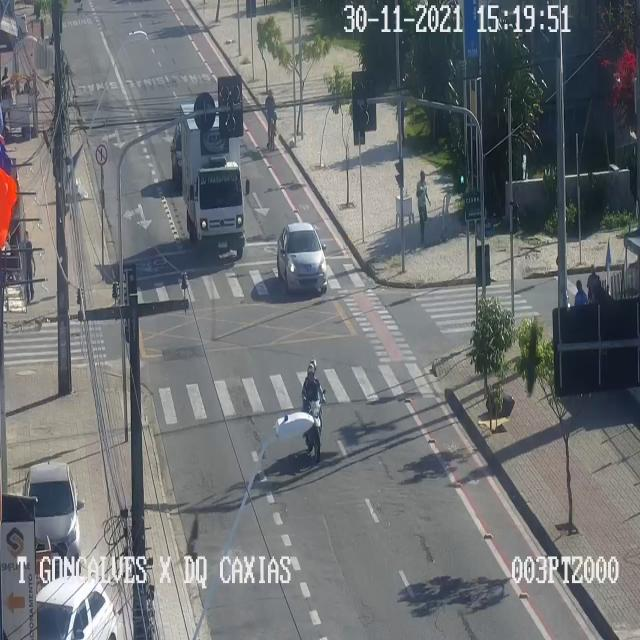Car: (24, 462, 80, 572), (36, 575, 116, 639), (277, 222, 327, 291), (166, 116, 190, 196)
Motorcycle: (301, 358, 325, 460)
Truck: (180, 100, 244, 256)
